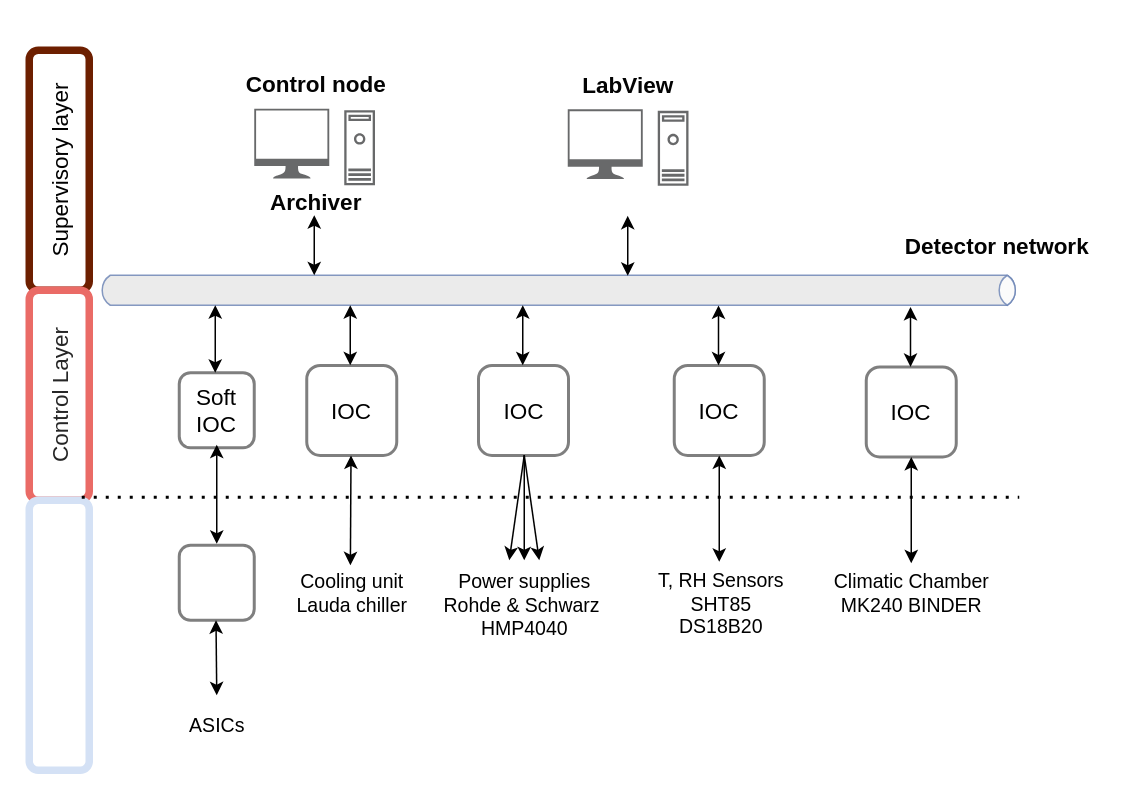
This 1136x801 diagram has some shape labels left out. Each missing label, with the centre of its shape:
"Field layer" goes at point 58,634.
"ROB" goes at point 216,582.
